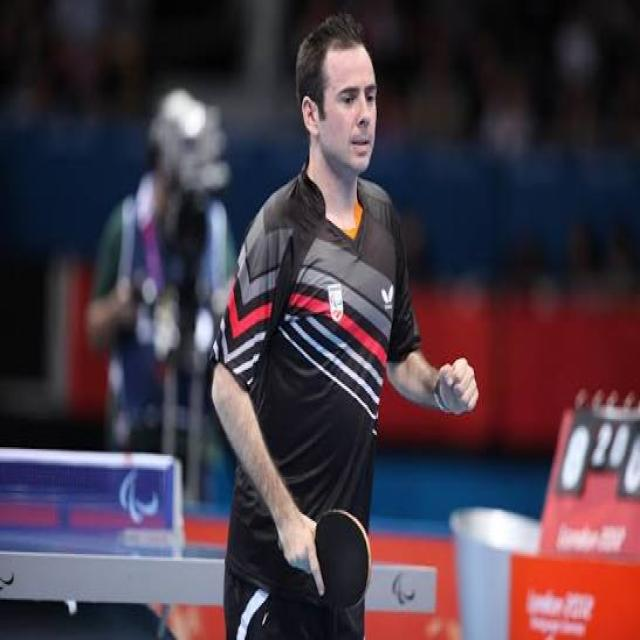TT Net: (0, 449, 187, 539)
TT Racket: (308, 501, 377, 617)
TT Table: (0, 525, 436, 567)
